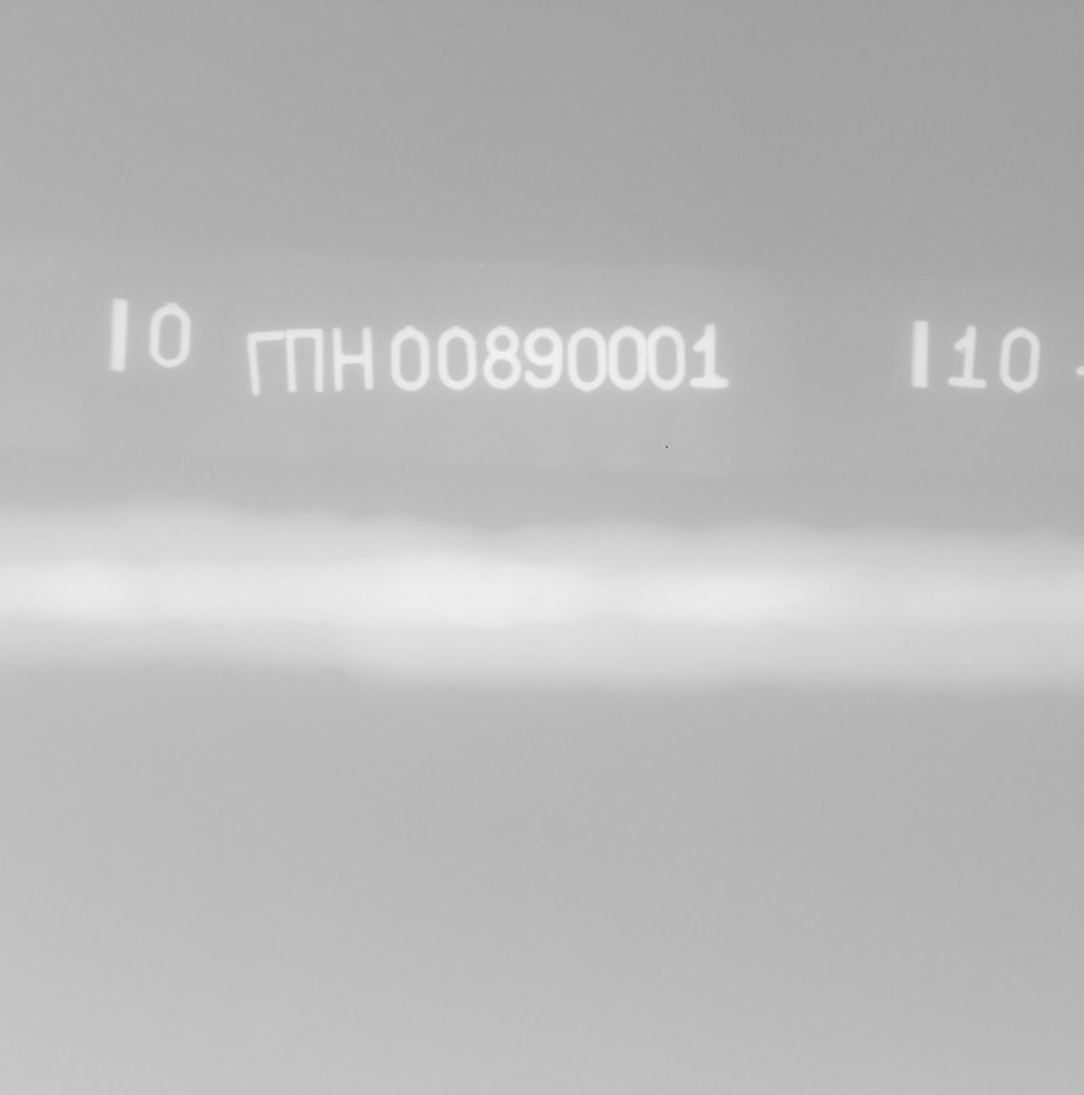Inclusion: (524, 597, 542, 603), (537, 586, 543, 592), (526, 576, 532, 580), (519, 609, 523, 614)
